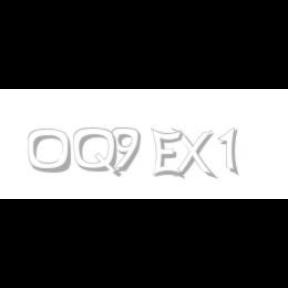1: (217, 128, 239, 176)
9: (112, 128, 140, 172)
E: (151, 128, 184, 180)
O: (28, 128, 72, 174)
Q: (73, 128, 119, 178)
X: (171, 128, 215, 180)
